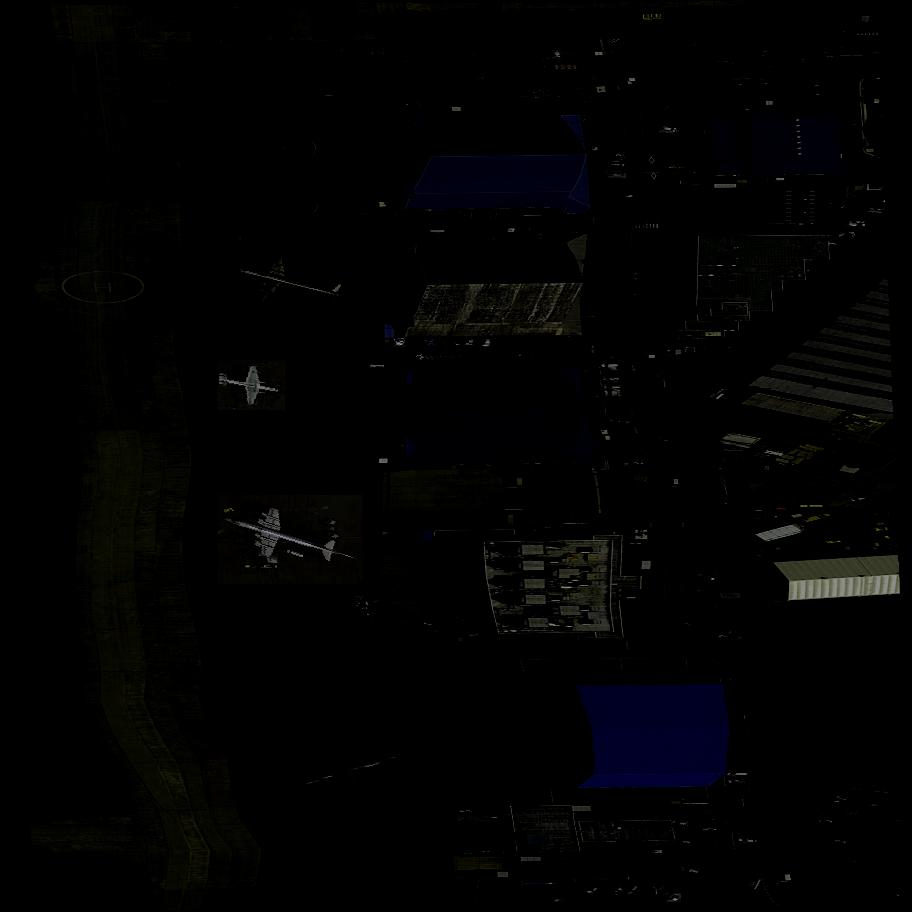plane: (268, 719, 428, 825), (196, 61, 388, 143), (207, 236, 364, 331), (216, 496, 365, 586), (215, 360, 288, 412)
small-vehicle: (690, 613, 714, 628), (709, 648, 733, 662), (600, 883, 619, 900), (447, 807, 472, 818), (711, 630, 735, 641), (667, 890, 682, 907), (607, 421, 630, 432), (720, 637, 745, 647), (625, 883, 640, 899), (825, 237, 851, 246), (869, 875, 886, 888), (820, 240, 842, 250), (621, 461, 645, 470), (573, 885, 588, 899), (736, 859, 757, 869), (403, 626, 424, 636), (830, 434, 849, 445), (639, 883, 652, 899), (213, 527, 229, 540), (676, 613, 689, 629), (662, 155, 682, 165), (602, 382, 622, 392), (600, 375, 620, 385), (861, 873, 875, 887), (585, 885, 601, 897), (865, 772, 889, 780), (658, 115, 679, 124), (676, 861, 694, 871), (607, 165, 627, 174), (835, 227, 857, 235), (698, 833, 717, 842), (663, 164, 682, 173), (599, 361, 618, 370), (650, 885, 667, 895), (552, 894, 565, 907), (624, 544, 645, 552), (547, 50, 562, 61), (456, 849, 474, 858), (822, 839, 848, 845), (452, 336, 465, 348), (607, 160, 624, 169), (851, 498, 870, 506), (663, 149, 682, 157), (601, 366, 620, 374), (615, 885, 627, 897), (606, 419, 630, 425), (604, 391, 622, 399), (603, 387, 621, 395), (698, 828, 718, 835), (679, 869, 701, 875), (394, 338, 406, 349), (463, 337, 475, 348), (365, 365, 387, 371), (510, 50, 523, 60), (436, 337, 449, 347), (660, 127, 676, 135), (670, 821, 691, 827), (736, 834, 754, 841), (424, 228, 445, 234), (844, 224, 862, 231), (829, 235, 850, 241), (475, 51, 487, 61), (416, 338, 428, 348), (481, 339, 493, 349), (525, 353, 537, 363), (599, 359, 619, 365), (609, 173, 626, 180), (414, 354, 425, 364), (862, 210, 884, 215), (869, 541, 881, 550), (611, 153, 625, 160), (725, 772, 747, 776), (659, 437, 670, 445), (737, 830, 754, 835), (817, 820, 834, 825), (620, 597, 637, 602), (609, 416, 626, 421), (704, 846, 718, 852), (706, 629, 727, 633), (426, 339, 436, 347), (811, 716, 822, 723), (606, 895, 616, 902), (670, 479, 680, 486), (835, 233, 857, 236), (737, 839, 758, 842), (457, 52, 466, 59), (438, 51, 448, 57), (620, 592, 640, 595), (675, 841, 694, 844), (848, 222, 867, 225), (599, 356, 618, 359), (467, 51, 475, 58), (610, 159, 624, 163), (727, 780, 743, 783), (579, 53, 587, 59), (384, 340, 393, 345), (855, 524, 864, 529), (656, 897, 667, 901), (657, 109, 676, 111), (292, 552, 310, 554), (516, 355, 523, 359)
storage-tank: (699, 45, 800, 86)
